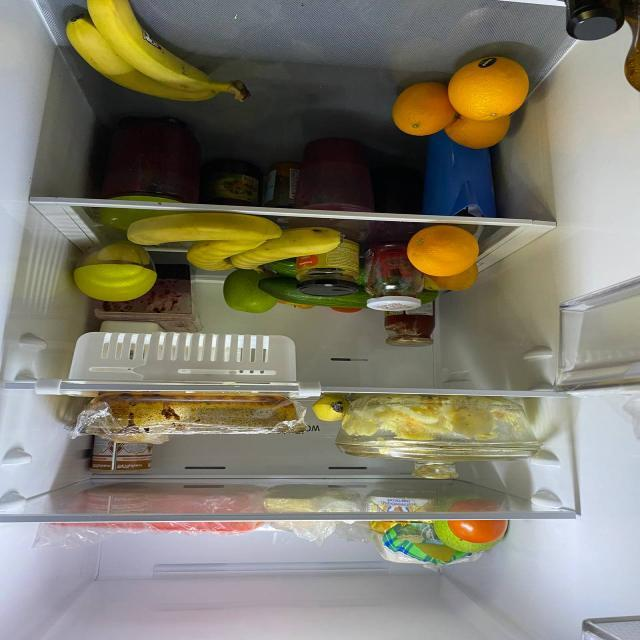Apple: (429, 520, 504, 554), (226, 274, 276, 319), (420, 266, 480, 295), (274, 297, 316, 313)
Banana: (52, 0, 245, 101), (182, 219, 344, 273), (112, 211, 282, 245), (308, 399, 354, 426)
Cucumber: (256, 280, 452, 313), (264, 258, 300, 280), (348, 264, 378, 288)
Orange: (446, 50, 536, 121), (390, 81, 456, 138), (405, 231, 487, 276), (447, 112, 513, 152)
Tomato: (444, 499, 509, 540), (327, 301, 362, 313)
